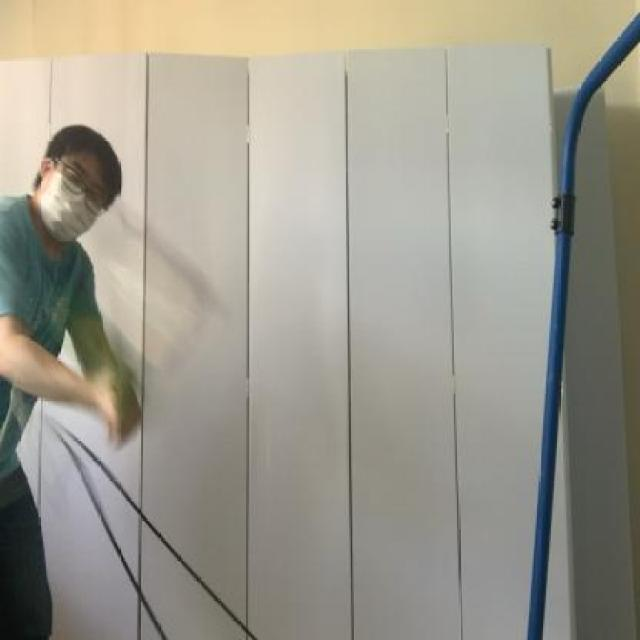baseball: (73, 307, 147, 433)
